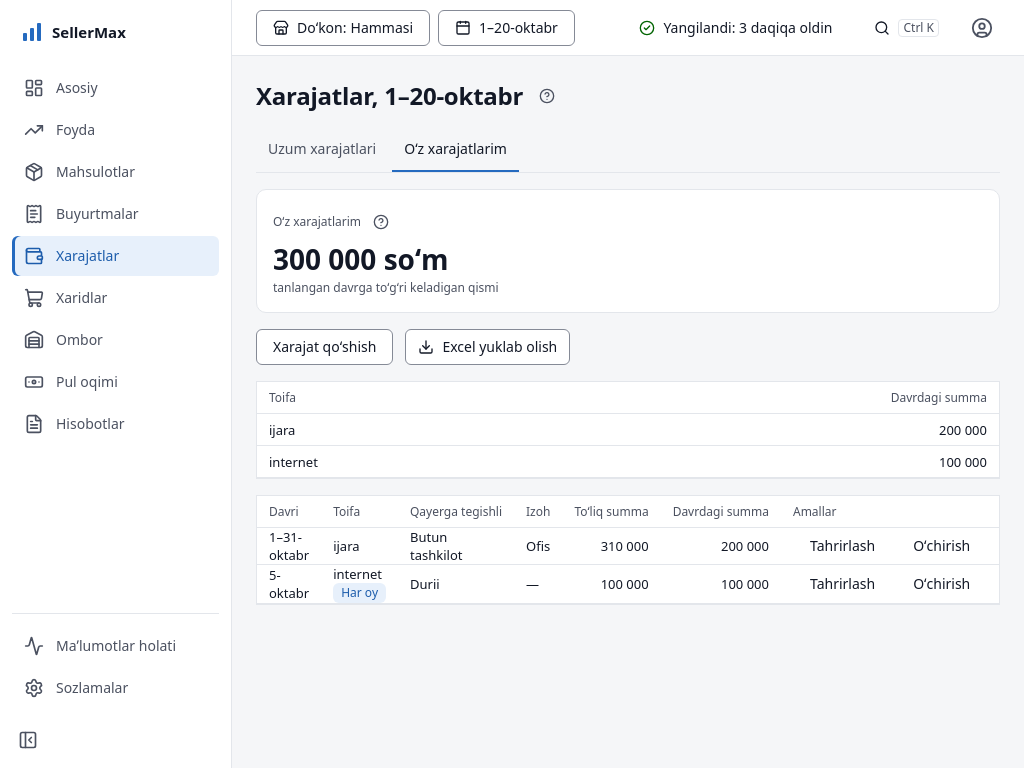
Test case: oʻz xarajatlarim › qo'shish: bir martalik — end_on yuborilmaydi; toifa yangi bo'lsa nomi bilan; ro'yxat qayta so'raladi
Expected: the table named "Oʻz xarajatlarim roʻyxati" is shown, [257,496,999,604]
Click the button "Xarajat qoʻshish": (325, 347) [256,329,393,365]
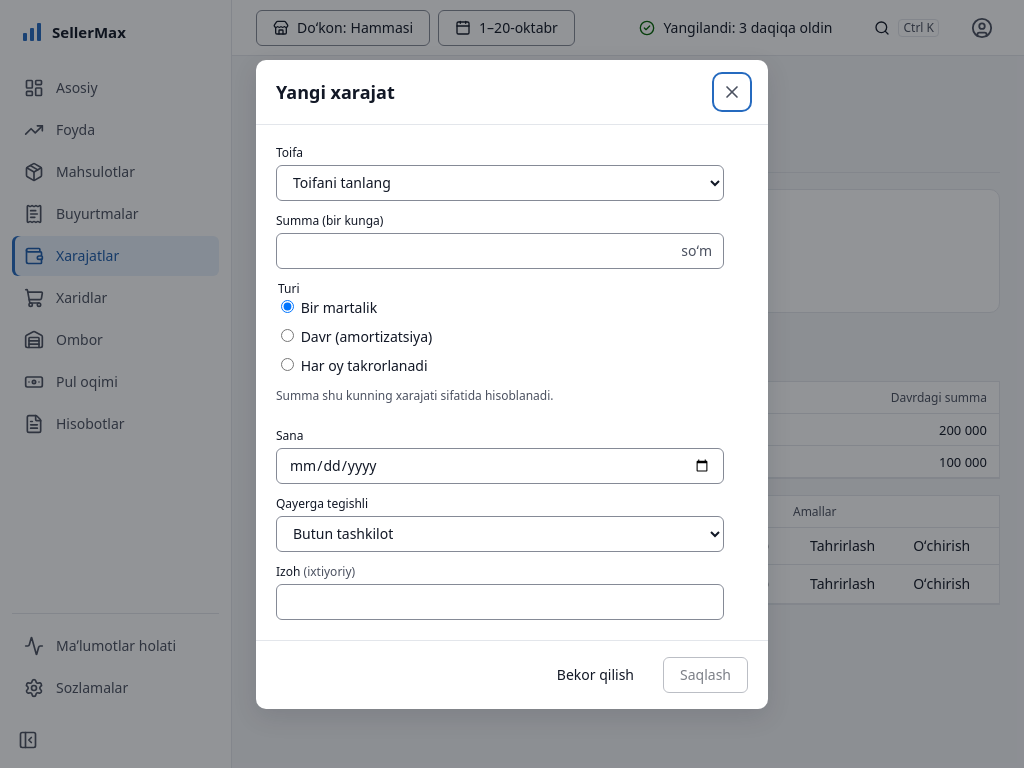
Result: the button "Saqlash" is disabled at [663,656,748,692]
Select "Yangi toifa…" in the dropdown labelled "Toifa": (500, 182) [276,164,724,200]
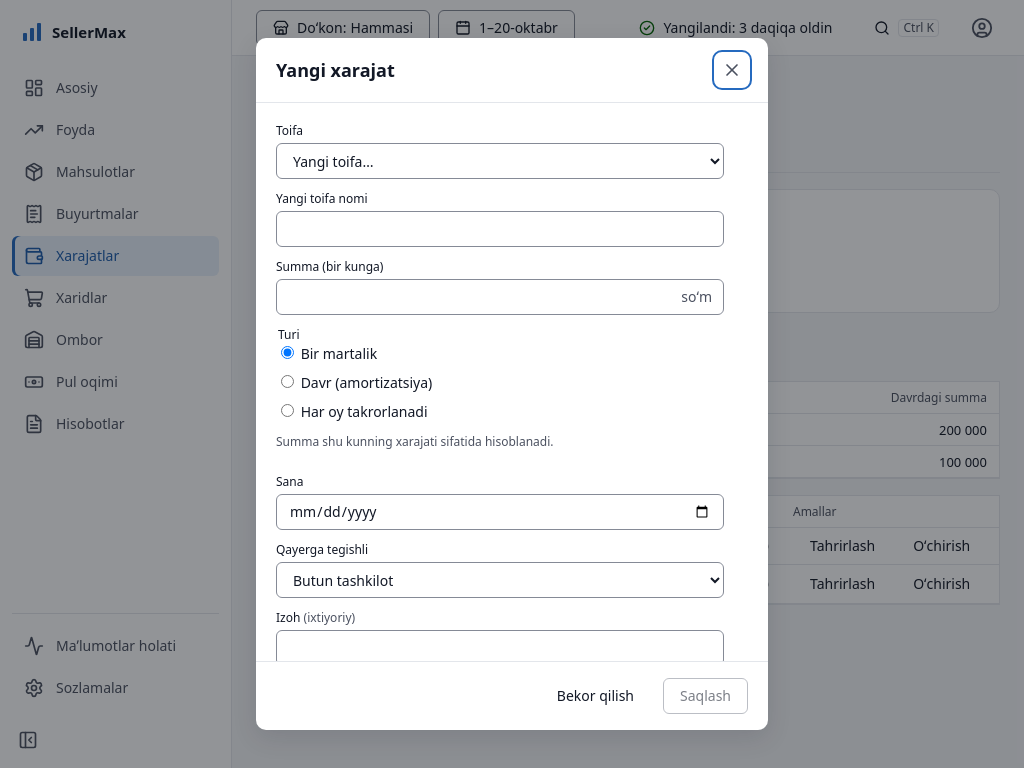
In the field labelled "Yangi toifa nomi": (500, 229) [276,211,724,247], type "  sug'urta "
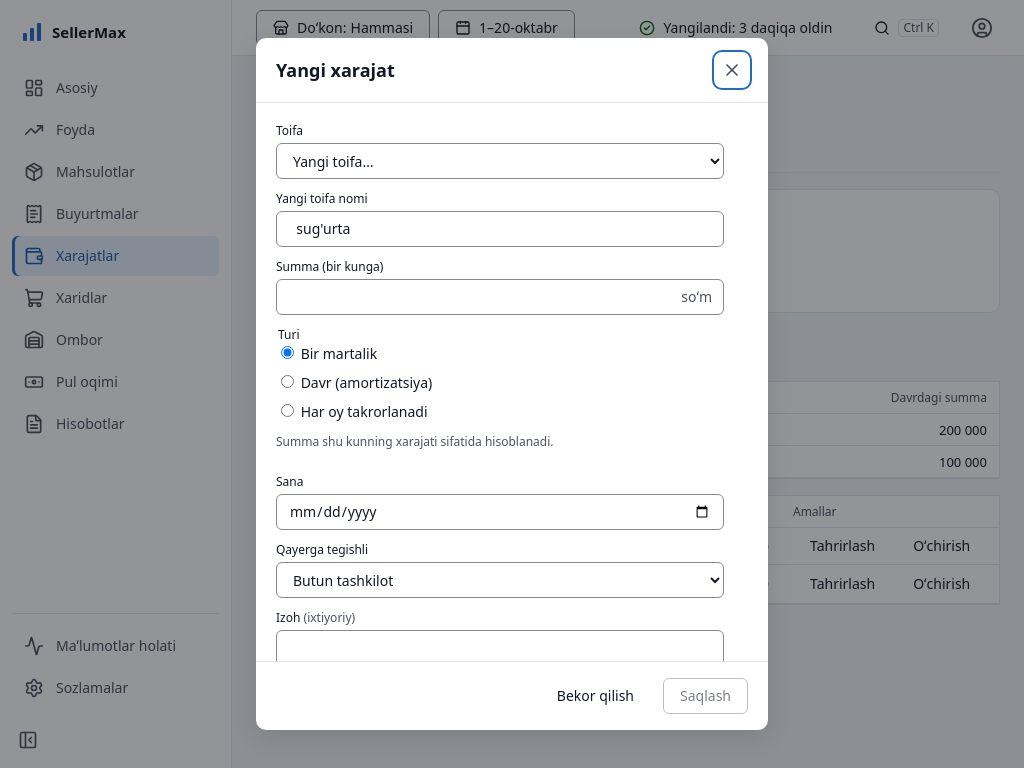
In the field labelled "Summa (bir kunga)": (500, 297) [276,279,724,315], type "50000"
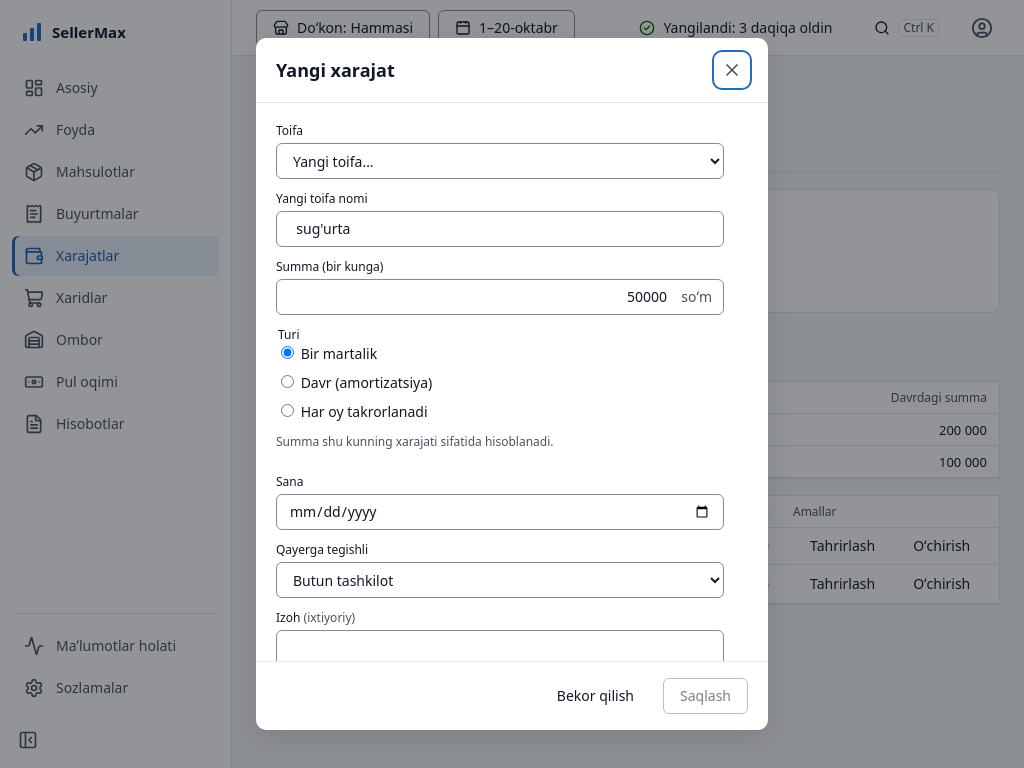
In the date field labelled "Sana": (500, 512) [276,494,724,530], type "2026-10-10"
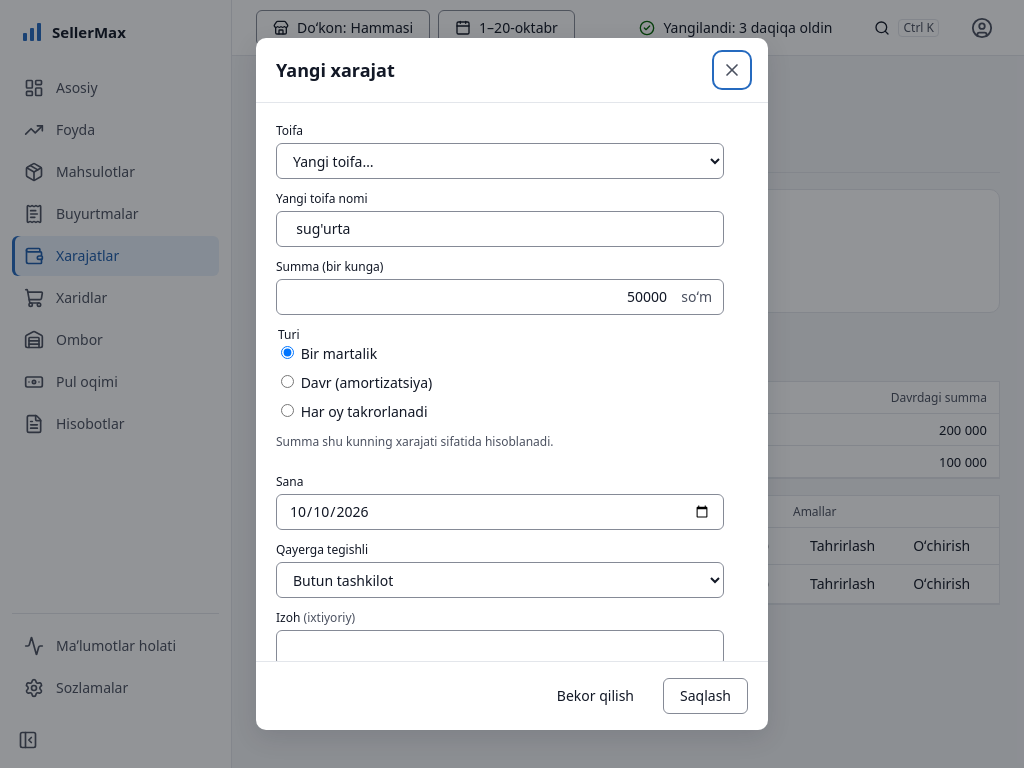
Result: the button "Saqlash" is enabled
Click the button "Saqlash": (706, 696) [663,678,748,714]
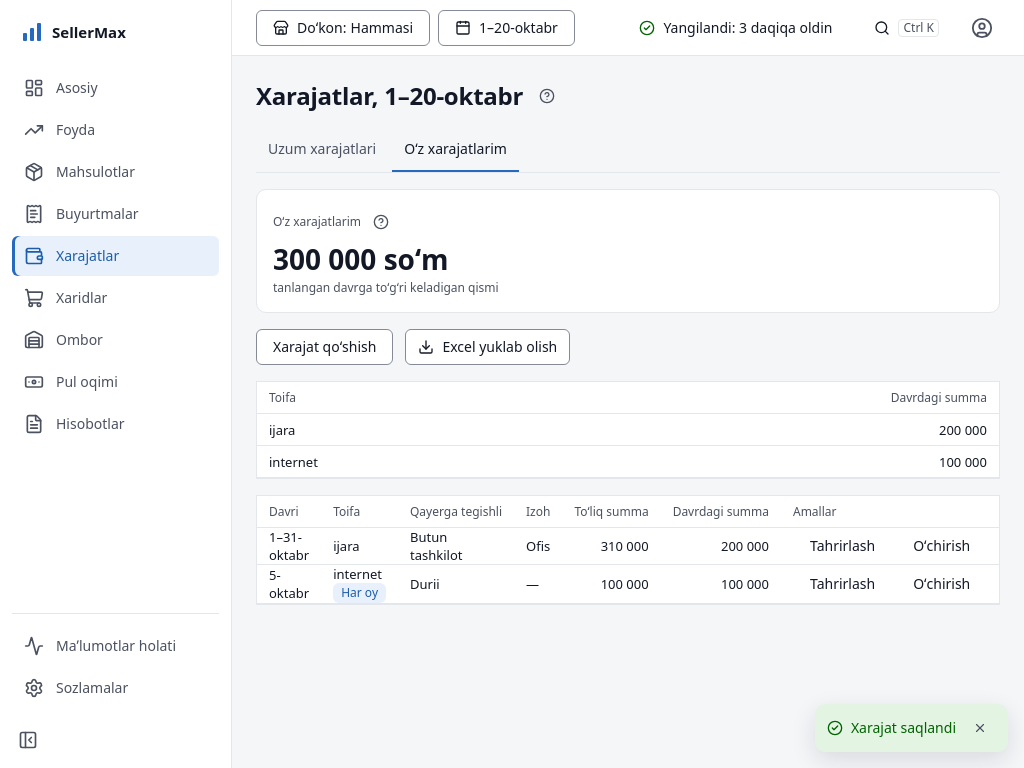
Result: the dialog is gone
